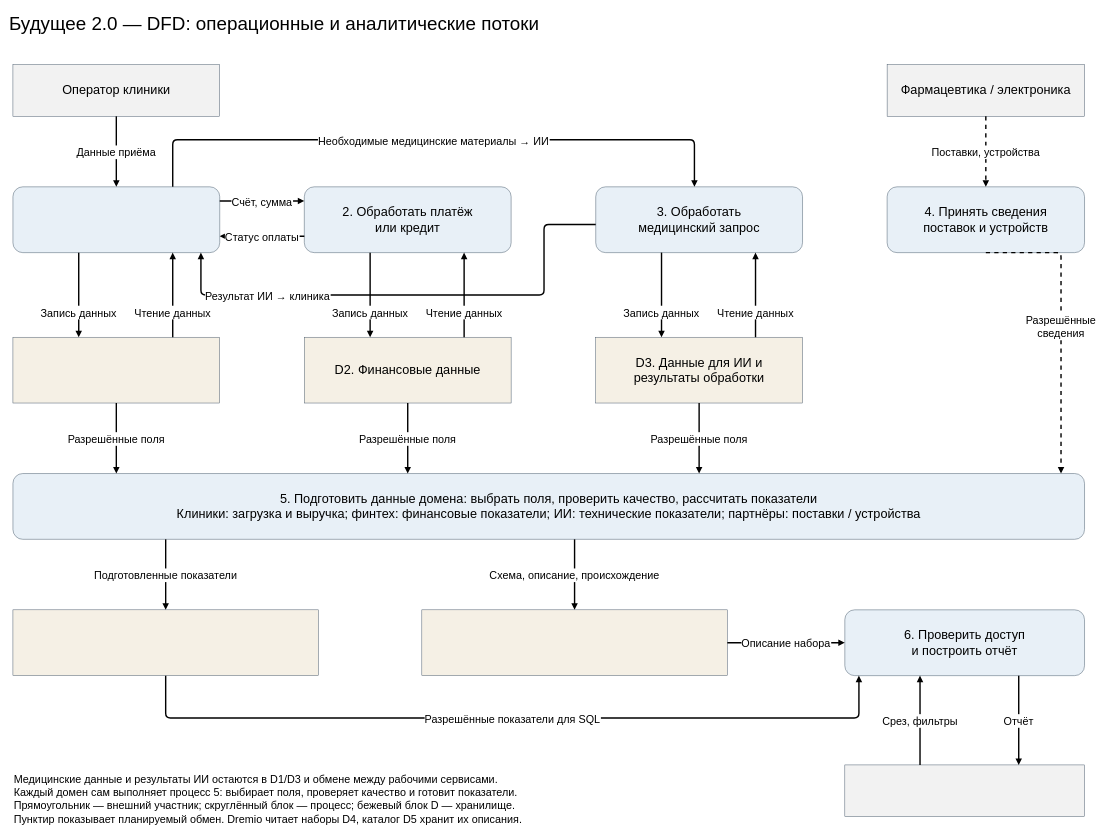
This 1106x834 diagram has some shape labels left out. The shapes that lost their labels are listed below. From the top down, each one's box as (x1, y1, x2, y2) in pixels, then its label:
(12, 186, 220, 253): 1. Вести приём и формировать счёт
(12, 337, 220, 403): D1. Медицинские данные и учёт клиники
(12, 609, 318, 676): D4. Данные доменов для отчётов Без карт, историй и исследований
(421, 609, 727, 676): D5. Каталог метаданных Владелец, контракт, lineage
(844, 764, 1085, 817): Сотрудник / аналитик
